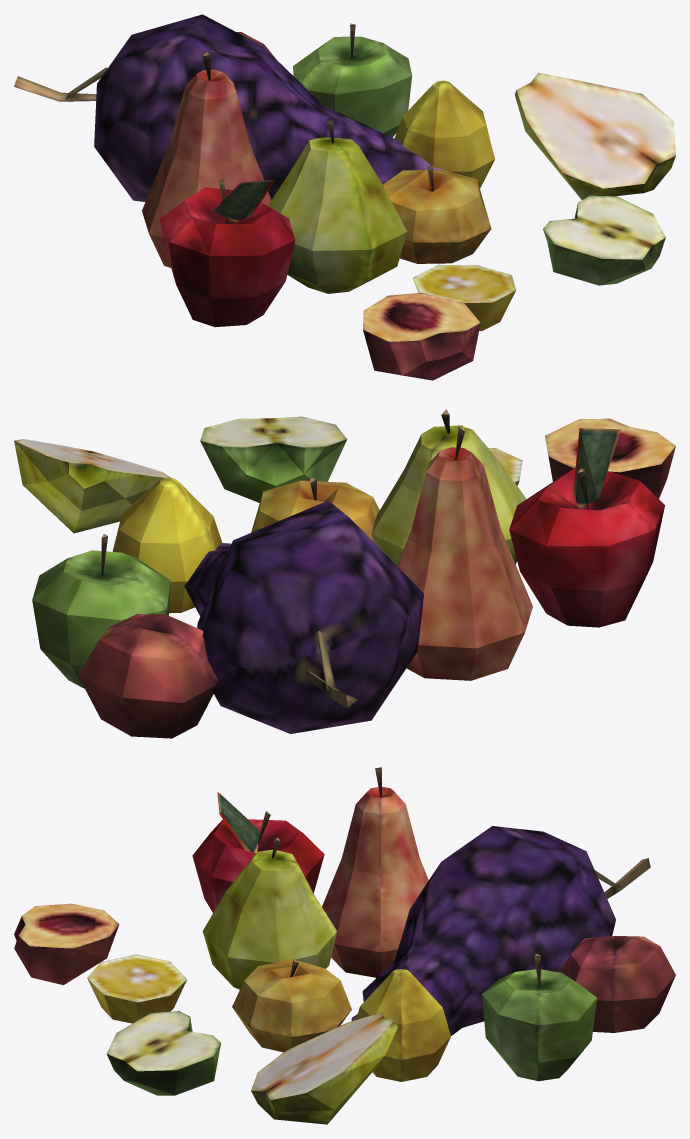
The picture shows the model from 3 angles, top to bottom: view 1: azimuth 30°, elevation 25°; view 2: azimuth 150°, elevation 25°; view 3: azimuth 270°, elevation 25°; orthographic projection. The views are drawn at different scales.
Parts seen in each view (by area): view 1: 293774; view 2: 293774; view 3: 293774.
Part boxes in pixels (left/top/right/bottom): 293774: left=14, top=14, right=675, bottom=380; 293774: left=14, top=409, right=675, bottom=738; 293774: left=14, top=767, right=675, bottom=1124.
Size of the model in its own units: 174 by 203 by 68.17.
